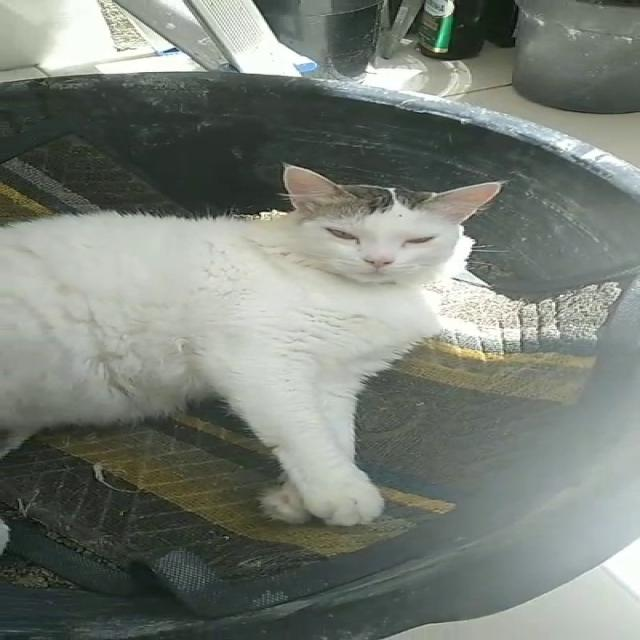Simba: (3, 118, 486, 571)
